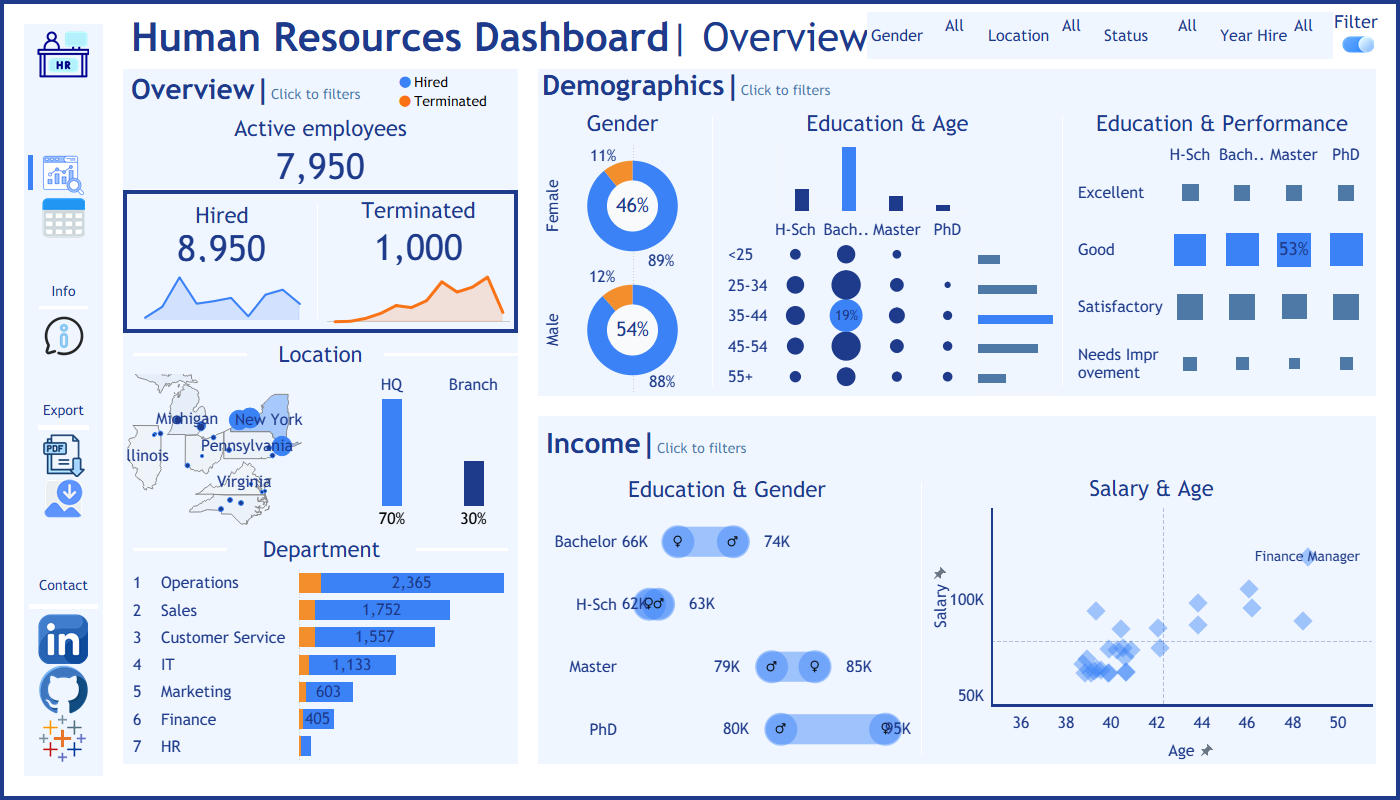

Layout of this report page (visuals, bound fields, positions):
{"tool":"tableau","page":{"name":"HR Dashboard","canvas":[1400,800],"ordinal":1},"visuals":[{"type":"blank","box":[115,0,1280,151]},{"type":"text","box":[123,4,810,65]},{"type":"blank","box":[933,4,443,65]},{"type":"text","box":[1306,10,100,23]},{"type":"filter","title":"Gender vs Education Level","param":"[federated.0ypcnml06v5kt91b34bzf0u4ldim].[none:gender:nk]","box":[867,12,116.7,47]},{"type":"filter","title":"Gender vs Education Level","param":"[federated.0ypcnml06v5kt91b34bzf0u4ldim].[none:Calculation_0892261614747653:nk]","box":[983.7,12,116.7,47]},{"type":"filter","title":"Gender vs Education Level","param":"[federated.0ypcnml06v5kt91b34bzf0u4ldim].[none:Calculation_0892261980622864:nk]","box":[1100.3,12,116,47]},{"type":"filter","title":"Gender vs Education Level","param":"[federated.0ypcnml06v5kt91b34bzf0u4ldim].[yr:hiredate:ok]","box":[1216.3,12,116.7,47]},{"type":"image","param":"Image/desk.png","box":[24,24,79,60]},{"type":"dashboard-object","box":[1341,28,34,32]},{"type":"text","box":[123,69,395,41]},{"type":"text","box":[395,69,130,46]},{"type":"text","box":[538,69,838,37]},{"type":"blank","box":[24,84,79,60]},{"type":"text","box":[538,106,169,34]},{"type":"blank","box":[712,106,1,290.5]},{"type":"text","box":[718,106,339,34]},{"type":"blank","box":[1062,106,1,290.5]},{"type":"text","box":[1068,106,308,34]},{"type":"text","box":[123,110,395,36]},{"type":"worksheet","title":"Gender Ratio","mark":"Pie","rows":["gender"],"cols":["Calculation_0892261624348685","Calculation_0892261624348685"],"box":[538,140,169,256.5]},{"type":"worksheet","title":"Hired by Education","mark":"Bar","rows":["Calculation_0892261579251712"],"cols":["education_level"],"box":[718,140,339,75]},{"type":"worksheet","title":"Education vs Performance","mark":"Square","rows":["performance_rating"],"cols":["education_level"],"box":[1068,140,308,256.5]},{"type":"worksheet","title":"BAN(Active)","mark":"Automatic","box":[123,146,395,43]},{"type":"text","box":[115,151,1280,521]},{"type":"dashboard-object","box":[34,154,59,42.5]},{"type":"blank","box":[28,155,5,35]},{"type":"blank","box":[123,189,395,1]},{"type":"blank","box":[317,194,1,135]},{"type":"text","box":[323,194,190.9,32]},{"type":"dashboard-object","box":[34,196.5,59,42.5]},{"type":"text","box":[132,199,180,32]},{"type":"worksheet","title":"Age vs Education","mark":"Pie","rows":["Calculation_0892261629358095"],"cols":["education_level"],"box":[718,215,259,181.5]},{"type":"worksheet","title":"Hired by Age Group","mark":"Bar","rows":["Calculation_0892261629358095"],"cols":["Calculation_0892261579251712"],"box":[977,215,80,181.5]},{"type":"worksheet","title":"BAN(Terminated)","mark":"Automatic","box":[323,226,190.9,43]},{"type":"worksheet","title":"BAN(Hired)","mark":"Automatic","box":[132,231,180,35]},{"type":"blank","box":[34,239,59,42.5]},{"type":"worksheet","title":"Hired by Year","mark":"Automatic","rows":["Calculation_0892261579251712","Calculation_0892261579251712"],"cols":["hiredate"],"box":[132,266,180,58]},{"type":"worksheet","title":"Terminated By Year","mark":"Area","rows":["Calculation_0892261580165121","Calculation_0892261580165121"],"cols":["termdate"],"box":[323,269,190.9,60]},{"type":"text","box":[34,281.5,59,20]},{"type":"blank","box":[34,301.5,59,13]},{"type":"dashboard-object","box":[34,314.5,59,42.5]},{"type":"blank","box":[123,338,134.3,32]},{"type":"text","box":[257.3,338,126.3,32]},{"type":"blank","box":[383.7,338,134.3,32]},{"type":"blank","box":[34,357,59,42.5]},{"type":"worksheet","title":"Map States","mark":"Automatic","box":[123,370,224,163]},{"type":"worksheet","title":"Location","mark":"Bar","rows":["Calculation_0892261579251712"],"cols":["Calculation_0892261614747653","Calculation1"],"box":[347,370,171,163]},{"type":"text","box":[34,399.5,59,22]},{"type":"text","box":[538,416.5,838,56]},{"type":"blank","box":[34,421.5,59,13]},{"type":"dashboard-object","box":[34,434.5,59,42.5]},{"type":"text","box":[538,472.5,378,34]},{"type":"blank","box":[921,472.5,1,291.5]},{"type":"text","box":[927,472.5,449,32]},{"type":"dashboard-object","box":[34,477,59,42.5]},{"type":"worksheet","title":"Age vs Salary","mark":"Shape","rows":["salary"],"cols":["Calculation_0892261628289038"],"box":[927,504.5,449,259.5]},{"type":"worksheet","title":"Gender vs Education Level","mark":"Square","rows":["education_level"],"cols":["salary","salary"],"box":[538,506.5,378,257.5]},{"type":"blank","box":[34,519.5,59,42.5]},{"type":"blank","box":[123,533,114,32]},{"type":"text","box":[237,533,169,32]},{"type":"blank","box":[406,533,112,32]},{"type":"worksheet","title":"Departments","mark":"Bar","rows":["Calculation_0892261590802436","department"],"cols":["Calculation_0892261579251712"],"box":[123,565,395,199]},{"type":"text","box":[24,572,79,27]},{"type":"blank","box":[24,599,79,15]},{"type":"image","param":"Image/linkedin.png","box":[24,614,79,50]},{"type":"image","param":"Image/social.png","box":[24,664,79,50]},{"type":"blank","box":[115,672,1280,128]},{"type":"image","param":"Image/icons8-tableau-software-48.png","box":[24,714,79,50]}]}

Visuals, with their boxes in screenshot pixels (x1, y1, x2, y2), scaled from the page's 1400x800 canvas onto the 1400x800 screenshot:
blank: [x1=115, y1=0, x2=1395, y2=151]
text: [x1=123, y1=4, x2=933, y2=69]
blank: [x1=933, y1=4, x2=1376, y2=69]
text: [x1=1306, y1=10, x2=1399, y2=33]
"Gender vs Education Level" filter: [x1=867, y1=12, x2=984, y2=59]
"Gender vs Education Level" filter: [x1=984, y1=12, x2=1100, y2=59]
"Gender vs Education Level" filter: [x1=1100, y1=12, x2=1216, y2=59]
"Gender vs Education Level" filter: [x1=1216, y1=12, x2=1333, y2=59]
image: [x1=24, y1=24, x2=103, y2=84]
dashboard-object: [x1=1341, y1=28, x2=1375, y2=60]
text: [x1=123, y1=69, x2=518, y2=110]
text: [x1=395, y1=69, x2=525, y2=115]
text: [x1=538, y1=69, x2=1376, y2=106]
blank: [x1=24, y1=84, x2=103, y2=144]
text: [x1=538, y1=106, x2=707, y2=140]
blank: [x1=712, y1=106, x2=713, y2=396]
text: [x1=718, y1=106, x2=1057, y2=140]
blank: [x1=1062, y1=106, x2=1063, y2=396]
text: [x1=1068, y1=106, x2=1376, y2=140]
text: [x1=123, y1=110, x2=518, y2=146]
"Gender Ratio" worksheet (Pie marks): [x1=538, y1=140, x2=707, y2=396]
"Hired by Education" worksheet (Bar marks): [x1=718, y1=140, x2=1057, y2=215]
"Education vs Performance" worksheet (Square marks): [x1=1068, y1=140, x2=1376, y2=396]
"BAN(Active)" worksheet: [x1=123, y1=146, x2=518, y2=189]
text: [x1=115, y1=151, x2=1395, y2=672]
dashboard-object: [x1=34, y1=154, x2=93, y2=196]
blank: [x1=28, y1=155, x2=33, y2=190]
blank: [x1=123, y1=189, x2=518, y2=190]
blank: [x1=317, y1=194, x2=318, y2=329]
text: [x1=323, y1=194, x2=514, y2=226]
dashboard-object: [x1=34, y1=196, x2=93, y2=239]
text: [x1=132, y1=199, x2=312, y2=231]
"Age vs Education" worksheet (Pie marks): [x1=718, y1=215, x2=977, y2=396]
"Hired by Age Group" worksheet (Bar marks): [x1=977, y1=215, x2=1057, y2=396]
"BAN(Terminated)" worksheet: [x1=323, y1=226, x2=514, y2=269]
"BAN(Hired)" worksheet: [x1=132, y1=231, x2=312, y2=266]
blank: [x1=34, y1=239, x2=93, y2=282]
"Hired by Year" worksheet: [x1=132, y1=266, x2=312, y2=324]
"Terminated By Year" worksheet (Area marks): [x1=323, y1=269, x2=514, y2=329]
text: [x1=34, y1=282, x2=93, y2=302]
blank: [x1=34, y1=302, x2=93, y2=314]
dashboard-object: [x1=34, y1=314, x2=93, y2=357]
blank: [x1=123, y1=338, x2=257, y2=370]
text: [x1=257, y1=338, x2=384, y2=370]
blank: [x1=384, y1=338, x2=518, y2=370]
blank: [x1=34, y1=357, x2=93, y2=400]
"Map States" worksheet: [x1=123, y1=370, x2=347, y2=533]
"Location" worksheet (Bar marks): [x1=347, y1=370, x2=518, y2=533]
text: [x1=34, y1=400, x2=93, y2=422]
text: [x1=538, y1=416, x2=1376, y2=472]
blank: [x1=34, y1=422, x2=93, y2=434]
dashboard-object: [x1=34, y1=434, x2=93, y2=477]
text: [x1=538, y1=472, x2=916, y2=506]
blank: [x1=921, y1=472, x2=922, y2=764]
text: [x1=927, y1=472, x2=1376, y2=504]
dashboard-object: [x1=34, y1=477, x2=93, y2=520]
"Age vs Salary" worksheet (Shape marks): [x1=927, y1=504, x2=1376, y2=764]
"Gender vs Education Level" worksheet (Square marks): [x1=538, y1=506, x2=916, y2=764]
blank: [x1=34, y1=520, x2=93, y2=562]
blank: [x1=123, y1=533, x2=237, y2=565]
text: [x1=237, y1=533, x2=406, y2=565]
blank: [x1=406, y1=533, x2=518, y2=565]
"Departments" worksheet (Bar marks): [x1=123, y1=565, x2=518, y2=764]
text: [x1=24, y1=572, x2=103, y2=599]
blank: [x1=24, y1=599, x2=103, y2=614]
image: [x1=24, y1=614, x2=103, y2=664]
image: [x1=24, y1=664, x2=103, y2=714]
blank: [x1=115, y1=672, x2=1395, y2=799]
image: [x1=24, y1=714, x2=103, y2=764]
